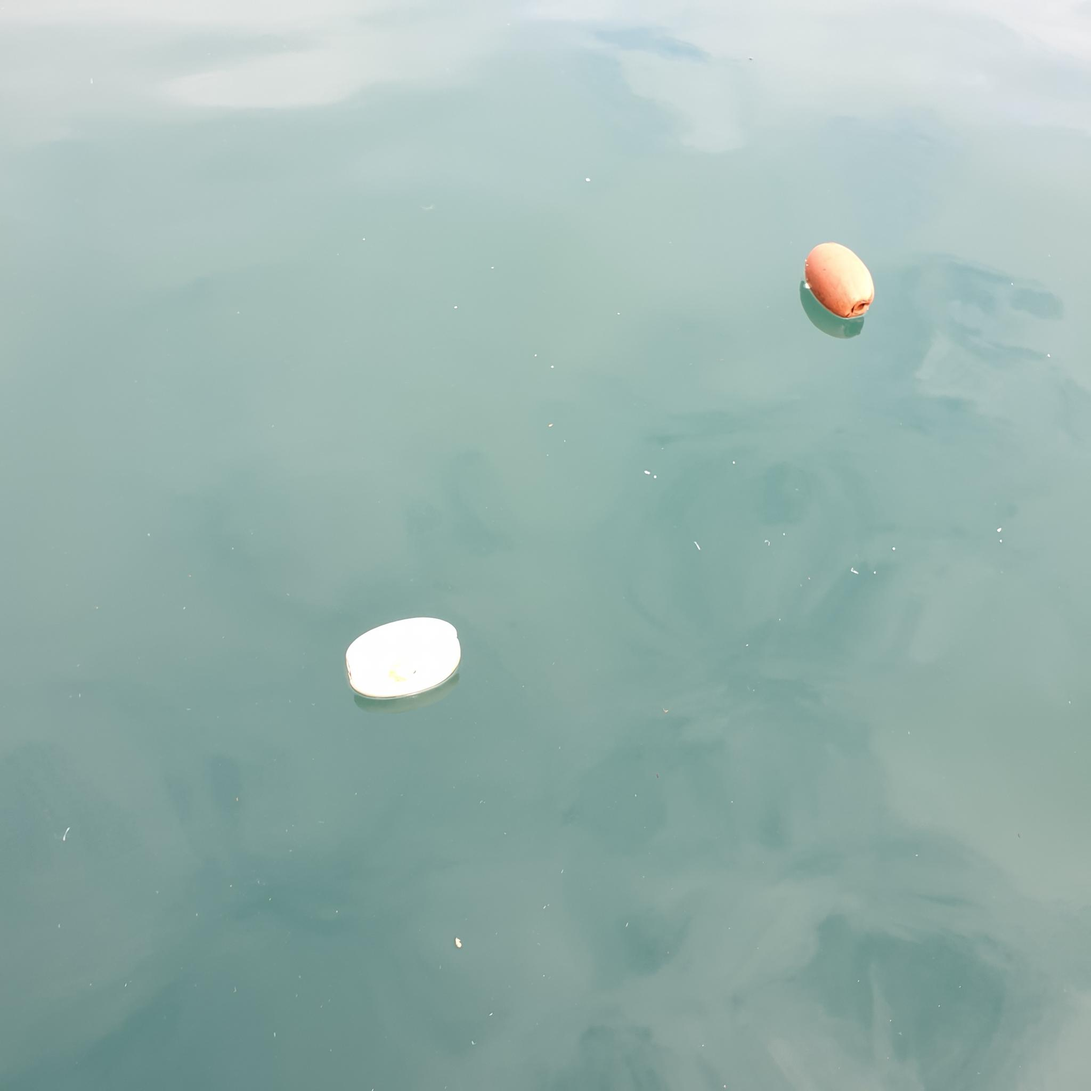sampah_terapung: (346, 617, 461, 698), (805, 242, 874, 318)
